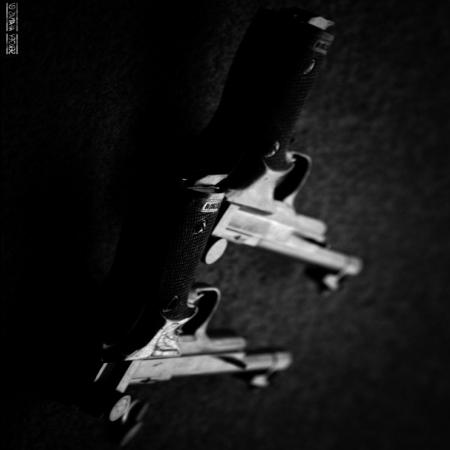Pistol: (164, 12, 376, 289), (88, 178, 292, 426)
